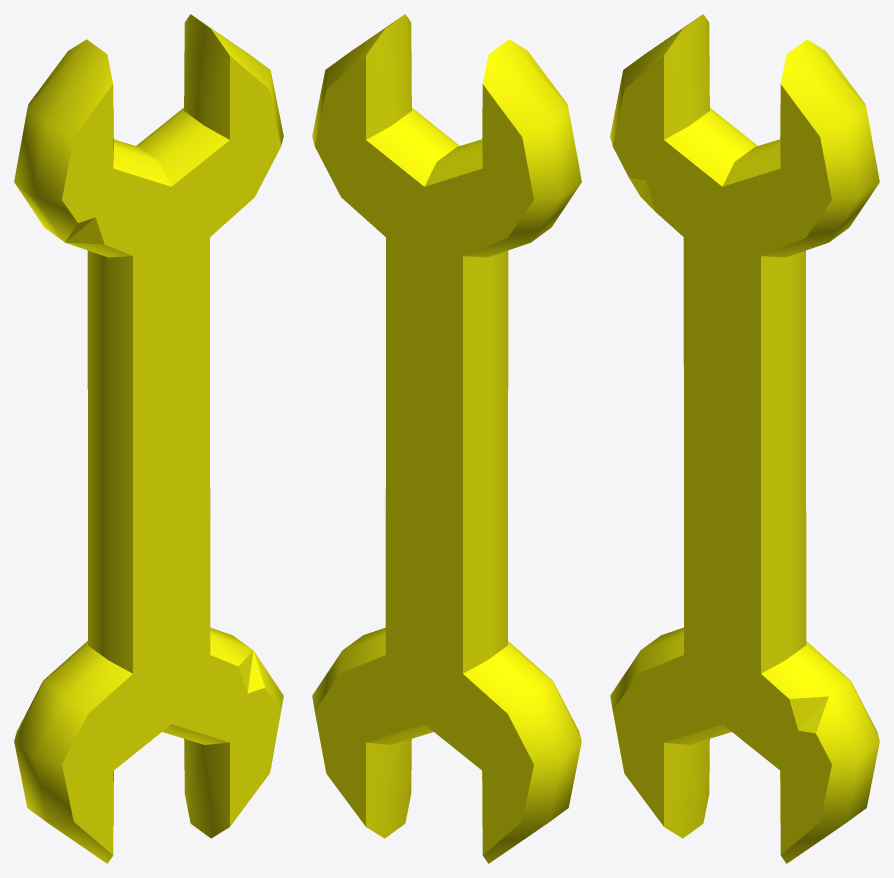
Rendered from kaykit-wrench-b.glb.
3 renders of one model, left to right at view 1: azimuth 30°, elevation 25°; view 2: azimuth 150°, elevation 25°; view 3: azimuth 330°, elevation 25°, orthographic.
Parts seen in each view (by area): view 1: wrench_B; view 2: wrench_B; view 3: wrench_B.
Part boxes in pixels (left/top/right/bottom): wrench_B: left=14, top=14, right=283, bottom=863; wrench_B: left=312, top=14, right=581, bottom=863; wrench_B: left=610, top=14, right=879, bottom=863.
Size of the model in its own units: 0.2639 by 0.819 by 0.0829.
